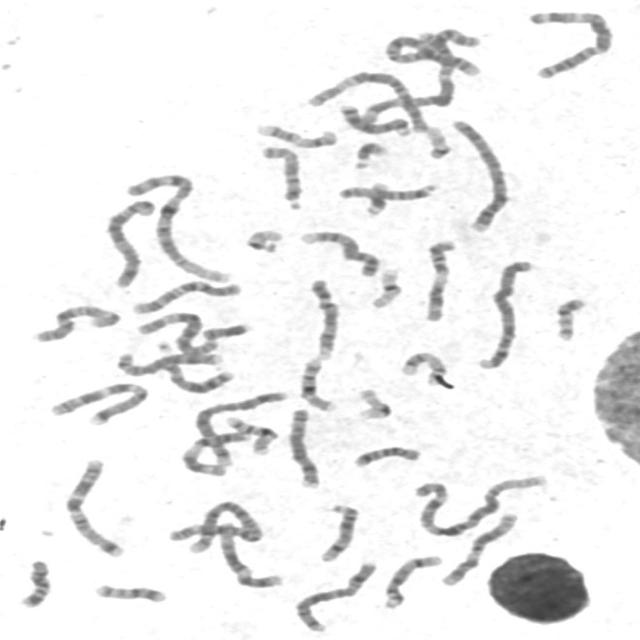A1: (121, 168, 234, 285), (409, 470, 548, 538)
A2: (157, 497, 269, 556), (379, 29, 485, 78)
A3: (361, 19, 465, 130), (522, 6, 618, 80)
B4: (445, 115, 512, 234), (471, 256, 537, 371)
B5: (192, 387, 308, 461), (100, 194, 159, 290)
C10: (126, 277, 245, 316), (26, 300, 123, 344)
C11: (176, 426, 254, 476), (418, 235, 458, 324)
C12: (435, 508, 522, 587), (211, 519, 286, 589)
C6: (302, 67, 430, 135), (132, 308, 220, 360)
C7: (58, 454, 128, 559), (43, 378, 151, 426)
C8: (282, 404, 323, 490), (112, 346, 222, 377)
C9: (294, 226, 382, 278), (302, 274, 342, 362)
D13: (156, 358, 236, 395), (336, 101, 414, 137)
D14: (377, 552, 446, 610), (313, 499, 362, 564)
D15: (255, 142, 306, 212), (332, 179, 441, 202)
E16: (294, 354, 339, 413), (219, 413, 280, 456)
E17: (250, 119, 340, 149), (395, 348, 451, 387)
E18: (12, 555, 54, 610), (348, 442, 423, 469)
F19: (364, 264, 406, 310), (351, 384, 395, 421)
F20: (88, 580, 169, 605), (548, 294, 590, 342)
G21: (348, 138, 390, 170), (359, 178, 391, 219)
G22: (418, 122, 454, 161), (239, 225, 285, 254)
X: (288, 558, 380, 634)
Y: (196, 319, 254, 342)
